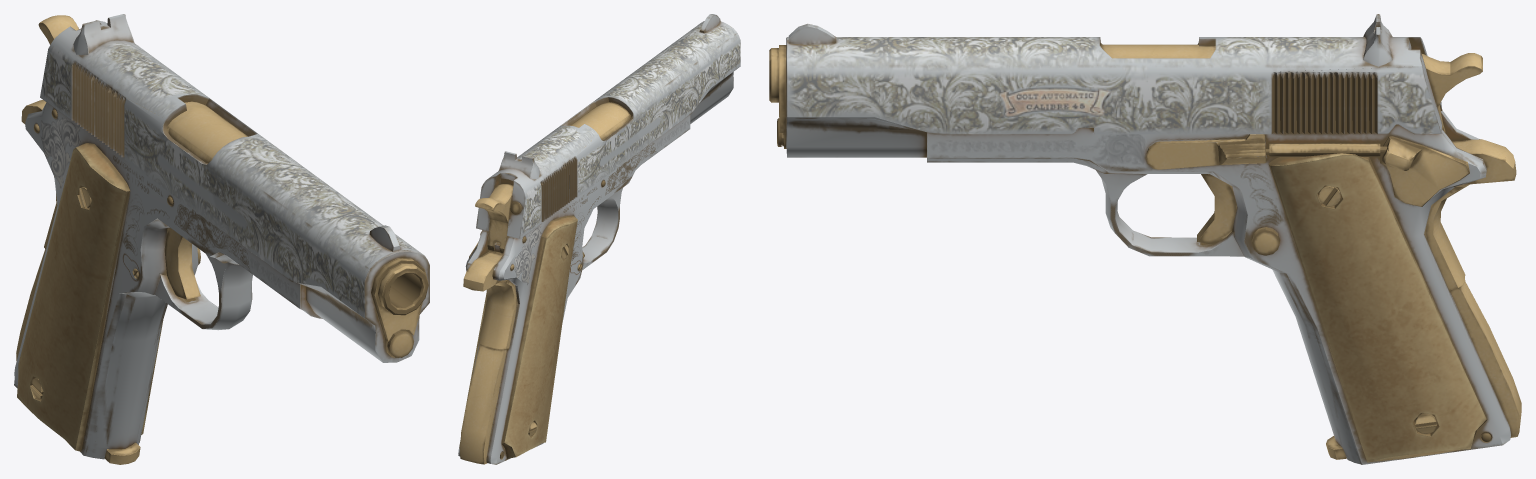
File: Pistol_Engraved.fbx
3 views of the same model, side by side, from view 1: azimuth 30°, elevation 25°; view 2: azimuth 150°, elevation 25°; view 3: azimuth 270°, elevation 25° (orthographic). The views are drawn at different scales.
Visible parts, largest first — view 1: GunMesh; view 2: GunMesh; view 3: GunMesh.
Part boxes in pixels (x1,y1,x2,y2): GunMesh: [14, 14, 429, 464]; GunMesh: [458, 14, 740, 464]; GunMesh: [769, 14, 1521, 464].
Size of the model in its own units: 0.03 by 0.136 by 0.216.
Materials: 1 (1 with a texture image).
